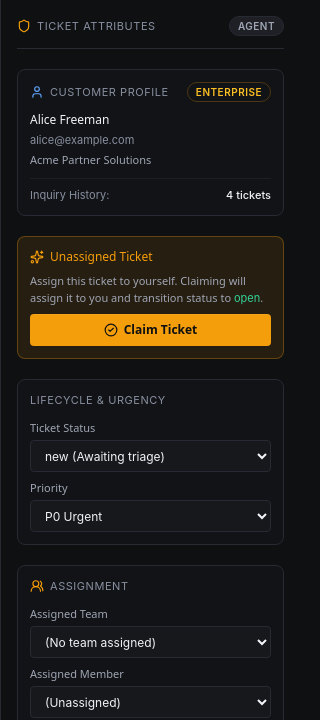
Test: TicketCockpit.Inspector & TicketMetadataInspector (Issue #105) › auto-populates primary team when selecting a member
Expected: the dropdown with test id "inspector-team-select" shows "(No team assigned)", [30, 626, 271, 658]
Select Marcus Brody (memberId: 4, primary teamId: 2)
Select "Marcus Brody (agent)" in the dropdown with test id "inspector-member-select" at (150, 702), box [30, 686, 271, 718]
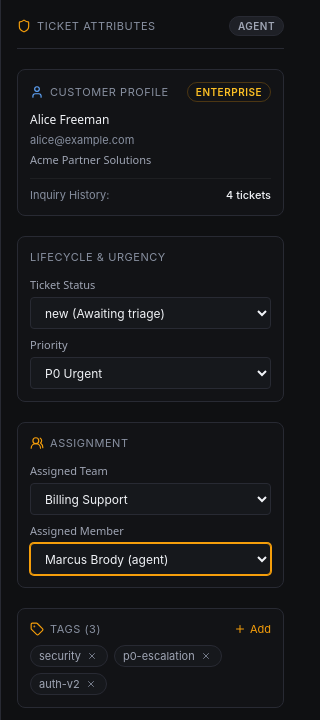
Now the dropdown with test id "inspector-team-select" shows "Billing Support", box [30, 483, 271, 515]
